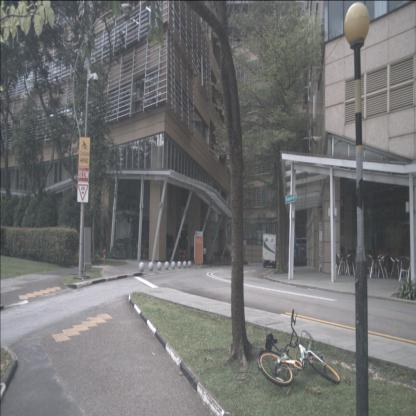human-pedestrian-adult: (203, 245, 207, 264)
vehicle-bicycle: (256, 309, 340, 387)
